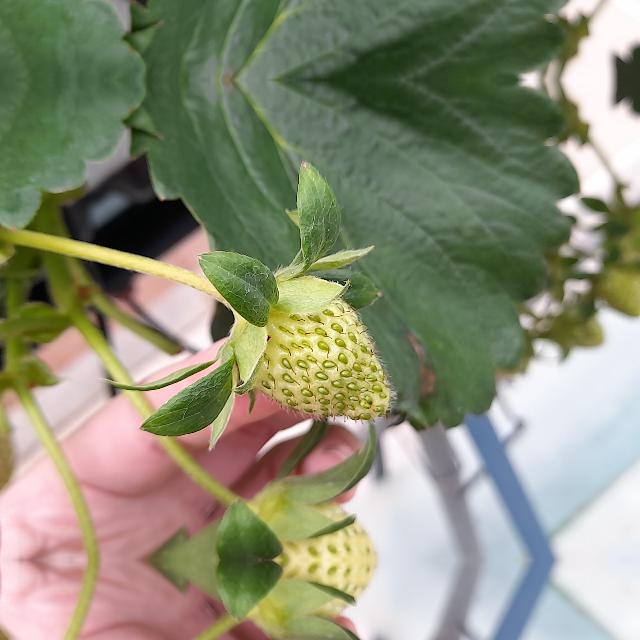Health_25: (250, 297, 390, 419)
